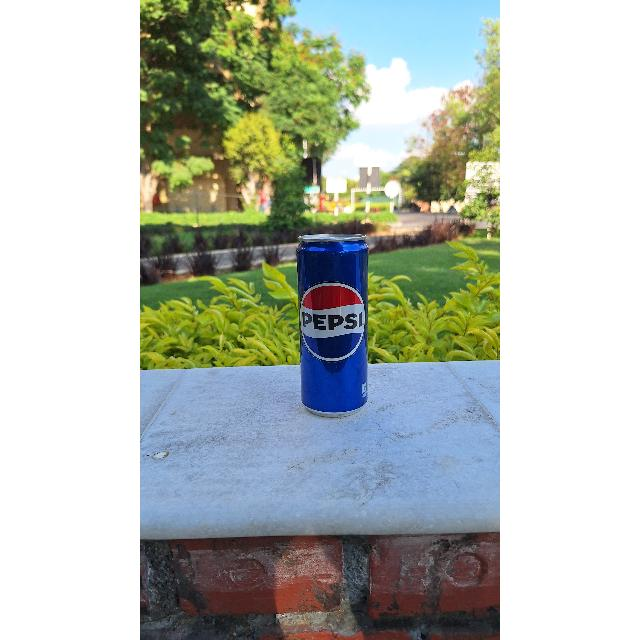Pepsi: (292, 231, 376, 417)
